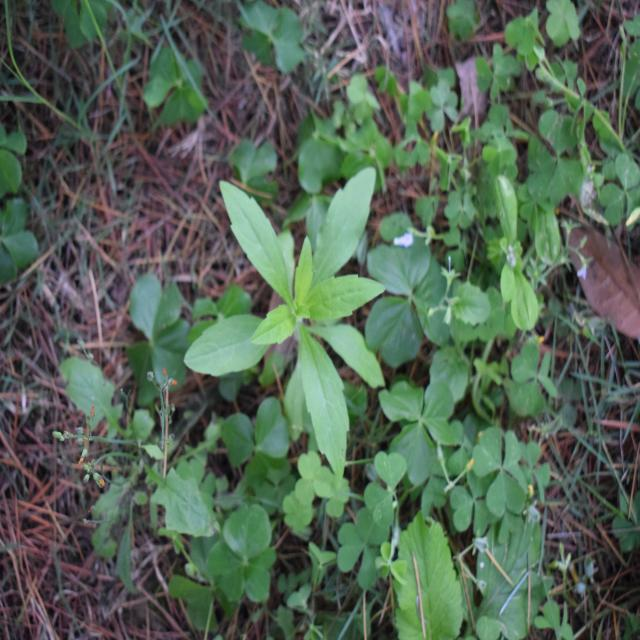horseweed: (206, 172, 401, 448)
